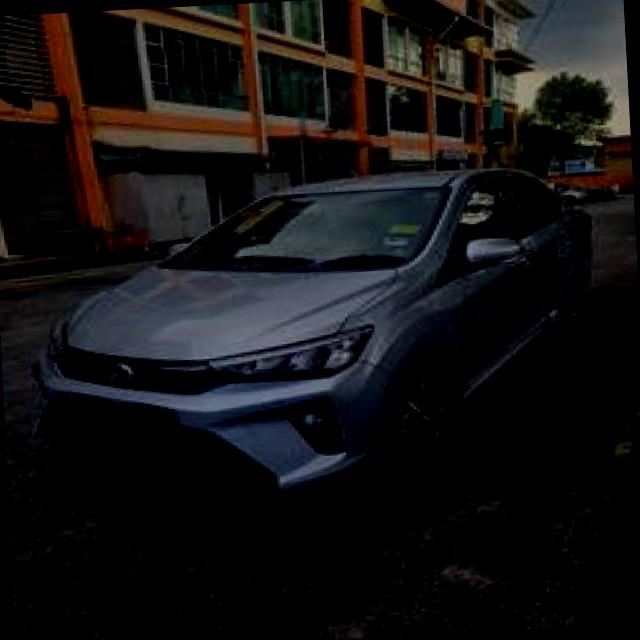PeroduaBezza: (21, 159, 606, 509)
